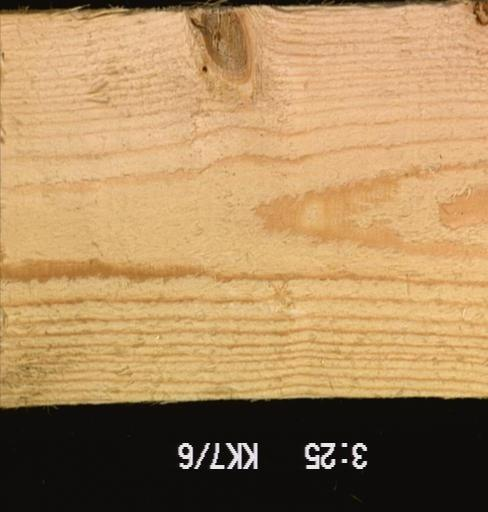edge_knot: (201, 6, 253, 80), (472, 0, 486, 29)
